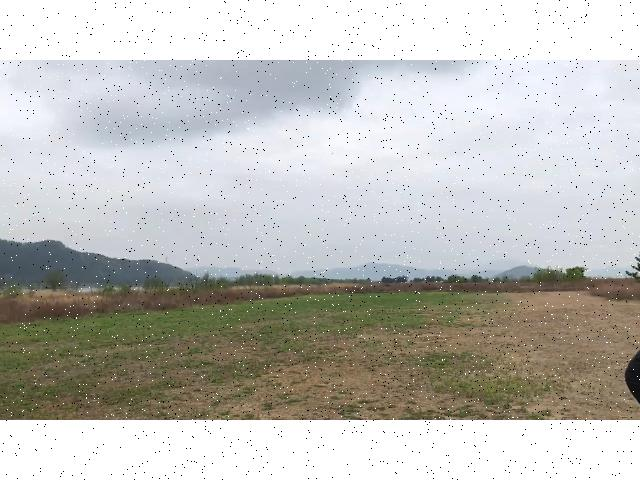Anti-Drone: (324, 148, 346, 164)
